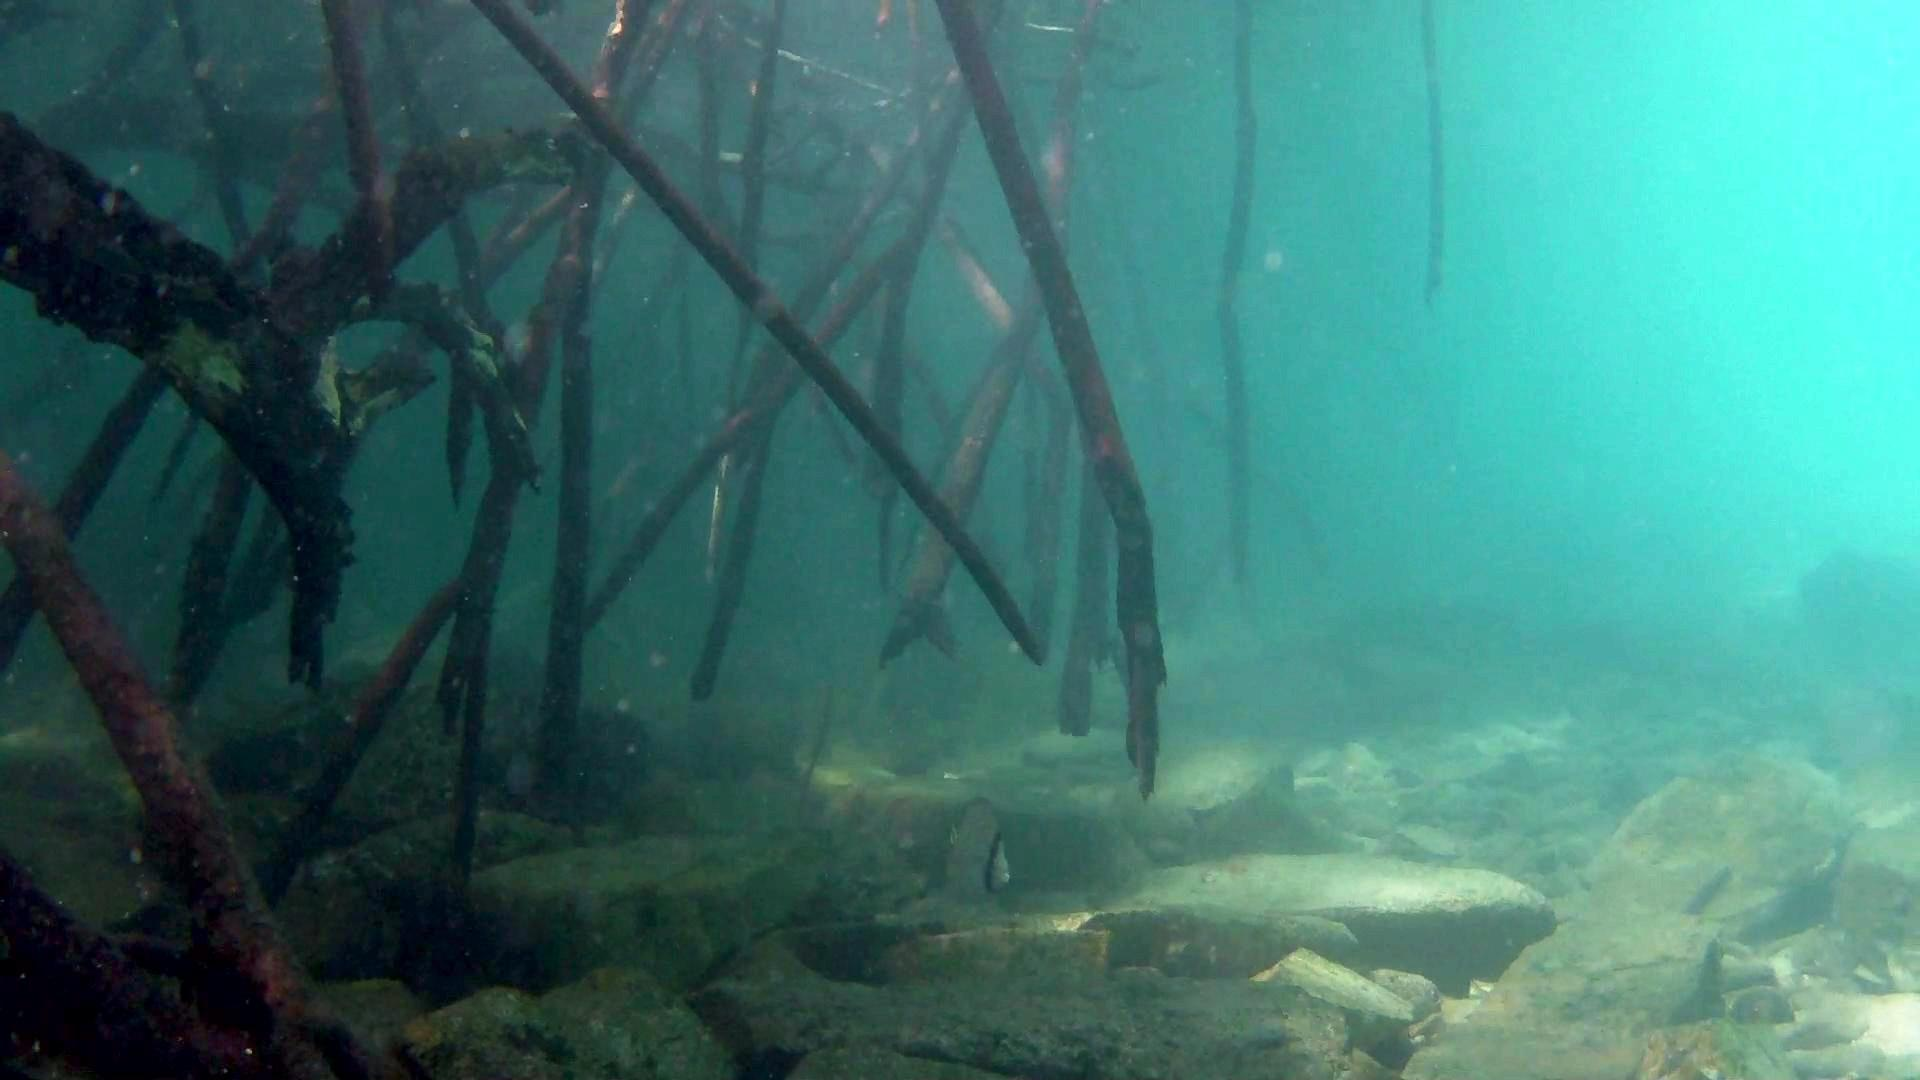chaetodon vagabundus: (938, 791, 1015, 909)
